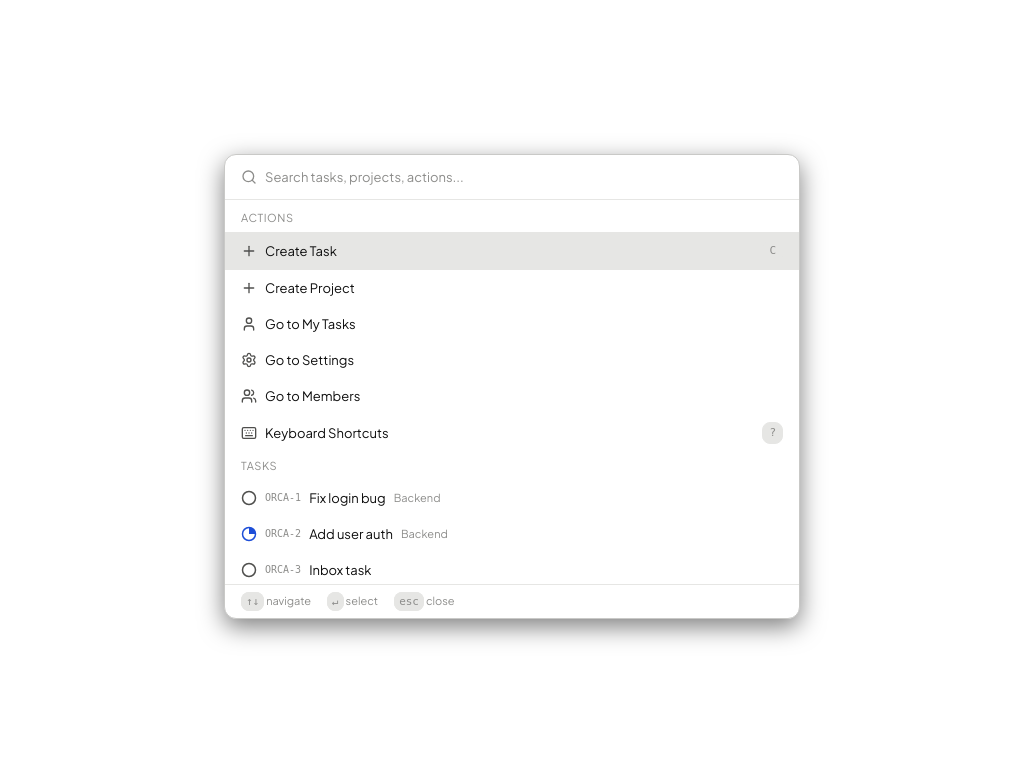
Scenario: CommandPalette › shows "No results" for unmatched queries
The width and height of the screenshot is (1024, 768).
Type "xyznonexistent" into the field with placeholder "Search tasks, projects, actions..." at (524, 177), box left=265, top=167, right=783, bottom=187
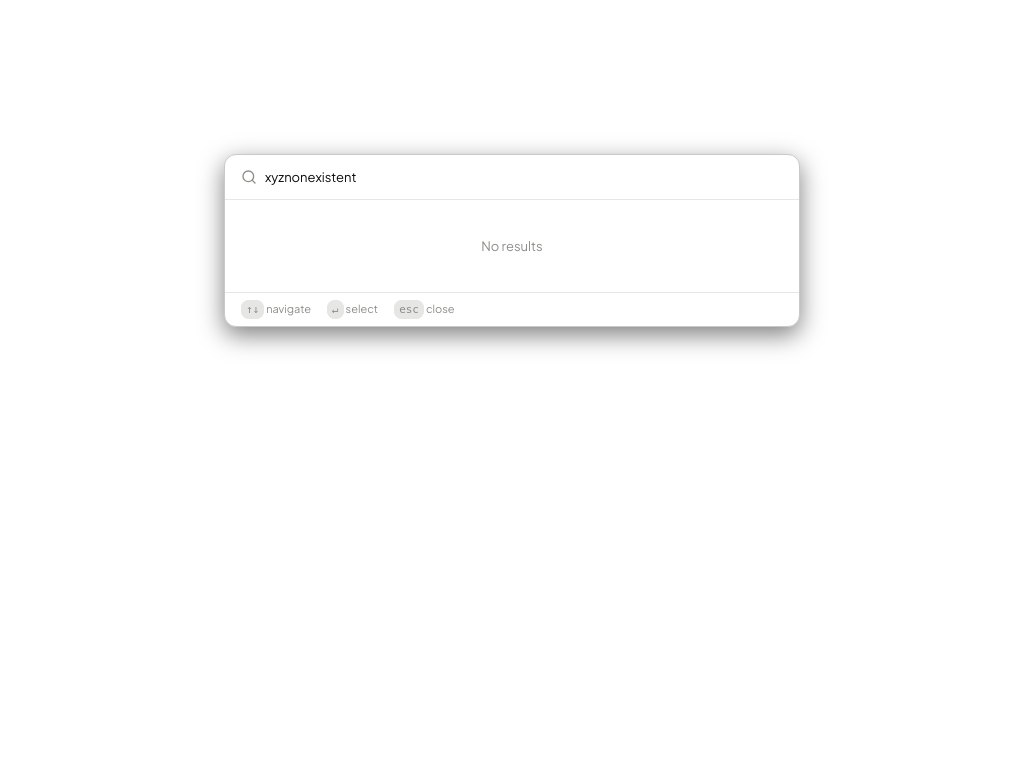
expect the text "No results" is shown: met, box left=481, top=238, right=543, bottom=254
